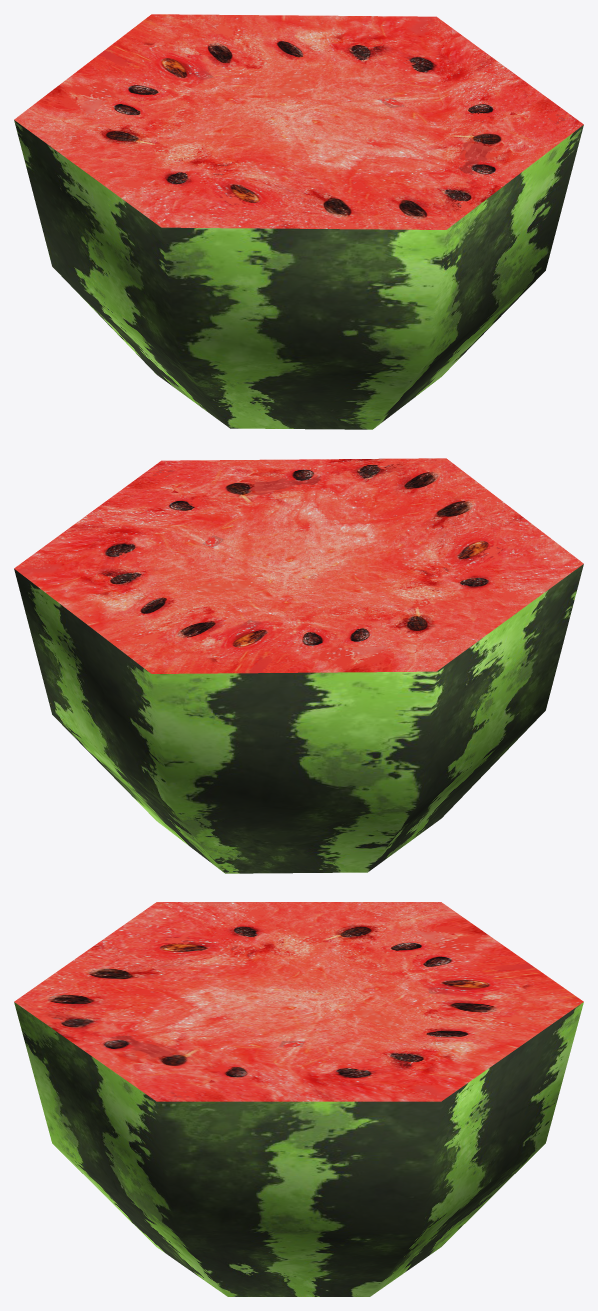
The model's file is Watermelon (Half).fbx.
3 renders of one model, top to bottom at view 1: azimuth 30°, elevation 25°; view 2: azimuth 150°, elevation 25°; view 3: azimuth 270°, elevation 25°, orthographic. The views are drawn at different scales.
Visible parts, largest first — view 1: Sphere.001; view 2: Sphere.001; view 3: Sphere.001.
Part boxes in pixels (<box>): Sphere.001: <box>14,14,583,429</box>; Sphere.001: <box>14,458,583,873</box>; Sphere.001: <box>14,902,583,1296</box>.
Bounding box in the file's own units: 173 × 115 × 209.
